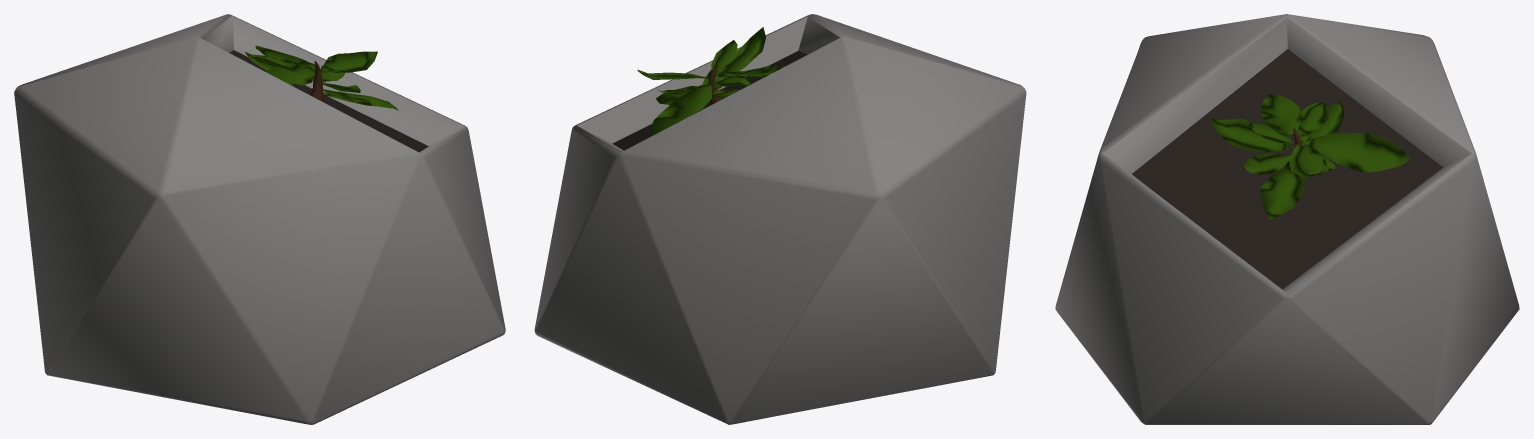
File: plant-small.lod0.glb
3 views of the same model, side by side, from view 1: azimuth 30°, elevation 25°; view 2: azimuth 150°, elevation 25°; view 3: azimuth 270°, elevation 25° (orthographic).
Visible parts, largest first — view 1: Pot_Concrete_0; view 2: Pot_Concrete_0; view 3: Pot_Concrete_0.
Part boxes in pixels (box(x1,y1,x2,y2)): Pot_Concrete_0: box(14, 14, 505, 424); Pot_Concrete_0: box(534, 14, 1026, 424); Pot_Concrete_0: box(1055, 14, 1519, 424).
Bounding box in the file's own units: 1.17 × 0.8 × 1.13.
